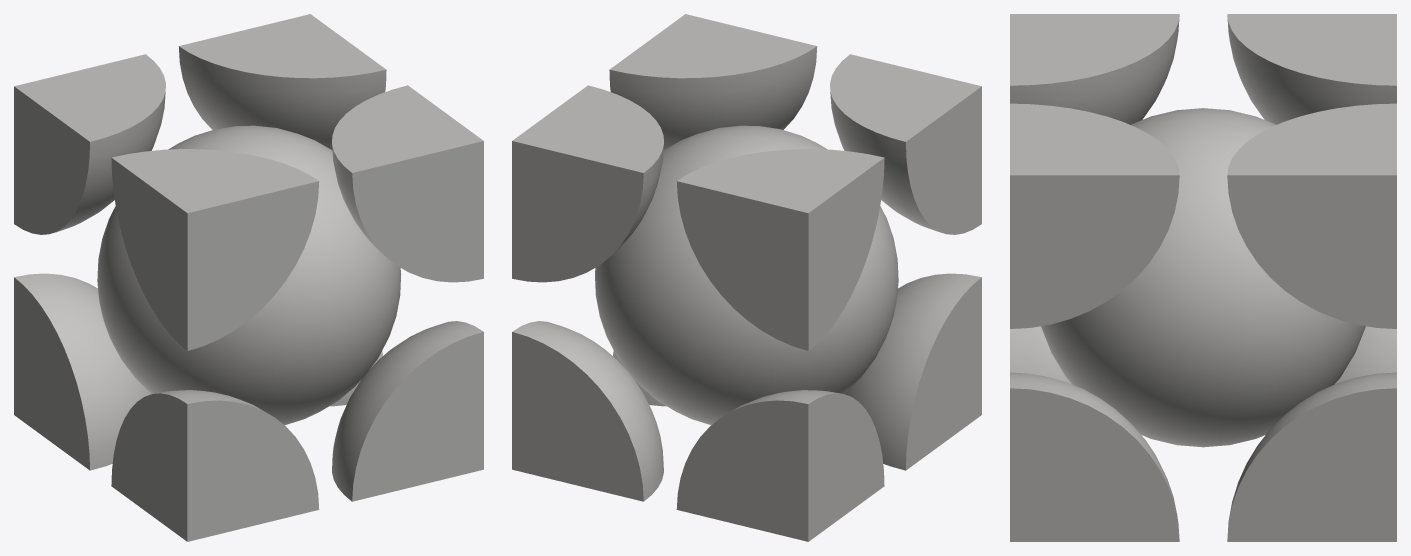
Rendered from tixin7.FBX.
3 views of the same model, side by side, from view 1: azimuth 30°, elevation 25°; view 2: azimuth 150°, elevation 25°; view 3: azimuth 270°, elevation 25° (orthographic). The views are drawn at different scales.
Visible parts, largest first — view 1: 对象221; view 2: 对象221; view 3: 对象221.
Boxes of the visible parts, left/top/right/bottom form: 对象221: left=14, top=14, right=483, bottom=541; 对象221: left=512, top=14, right=981, bottom=541; 对象221: left=1010, top=14, right=1396, bottom=541.
Bounding box in the file's own units: 45.01 × 47.69 × 45.61.
